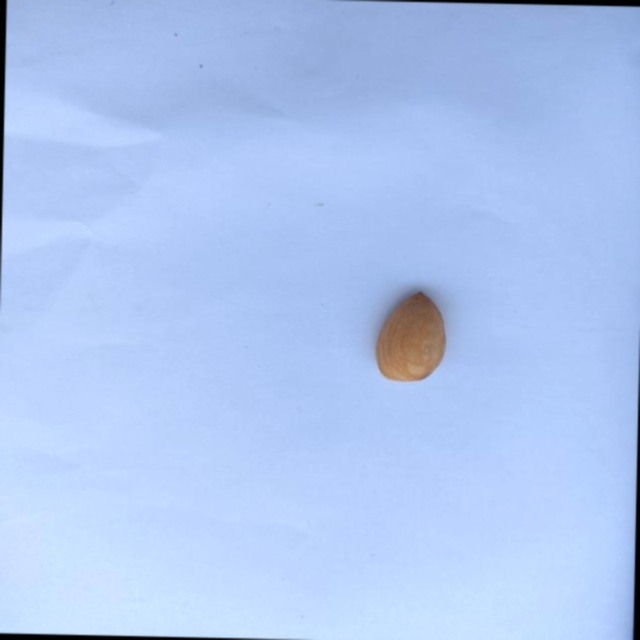grade2: (368, 288, 450, 386)
